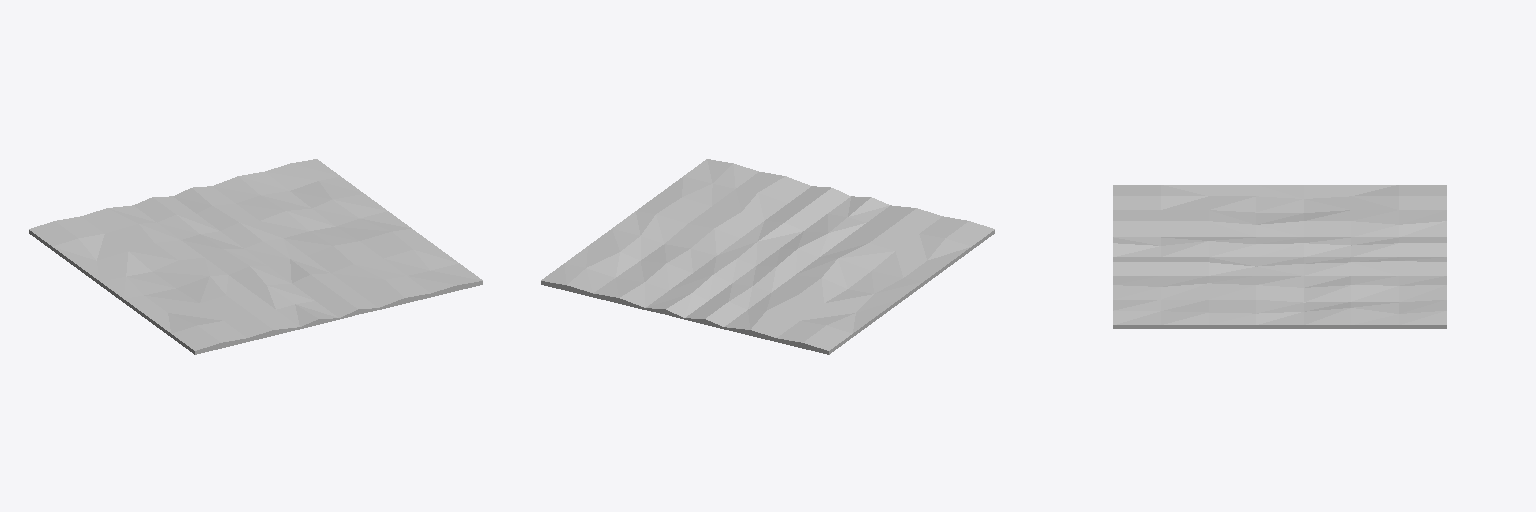
The model's file is farmland.obj.
3 renders of one model, left to right at view 1: azimuth 30°, elevation 25°; view 2: azimuth 150°, elevation 25°; view 3: azimuth 270°, elevation 25°, orthographic.
Bounding box in the file's own units: 6.08 × 0.1153 × 6.08.